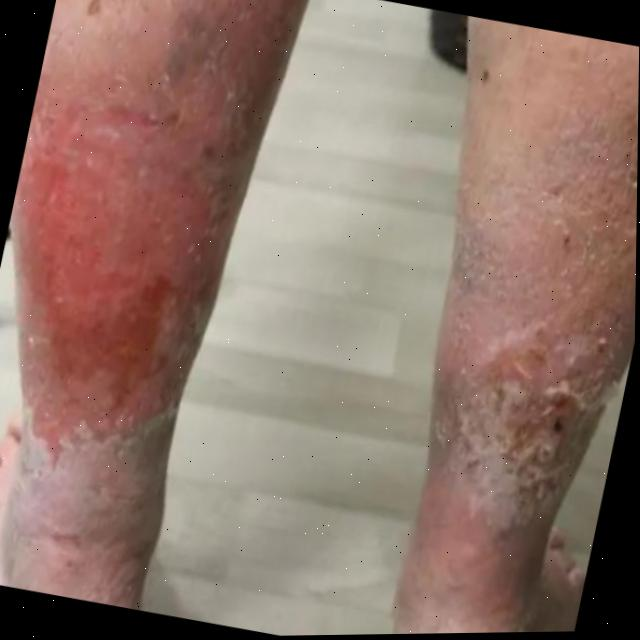Eczema: (415, 297, 627, 550), (0, 378, 188, 614)
